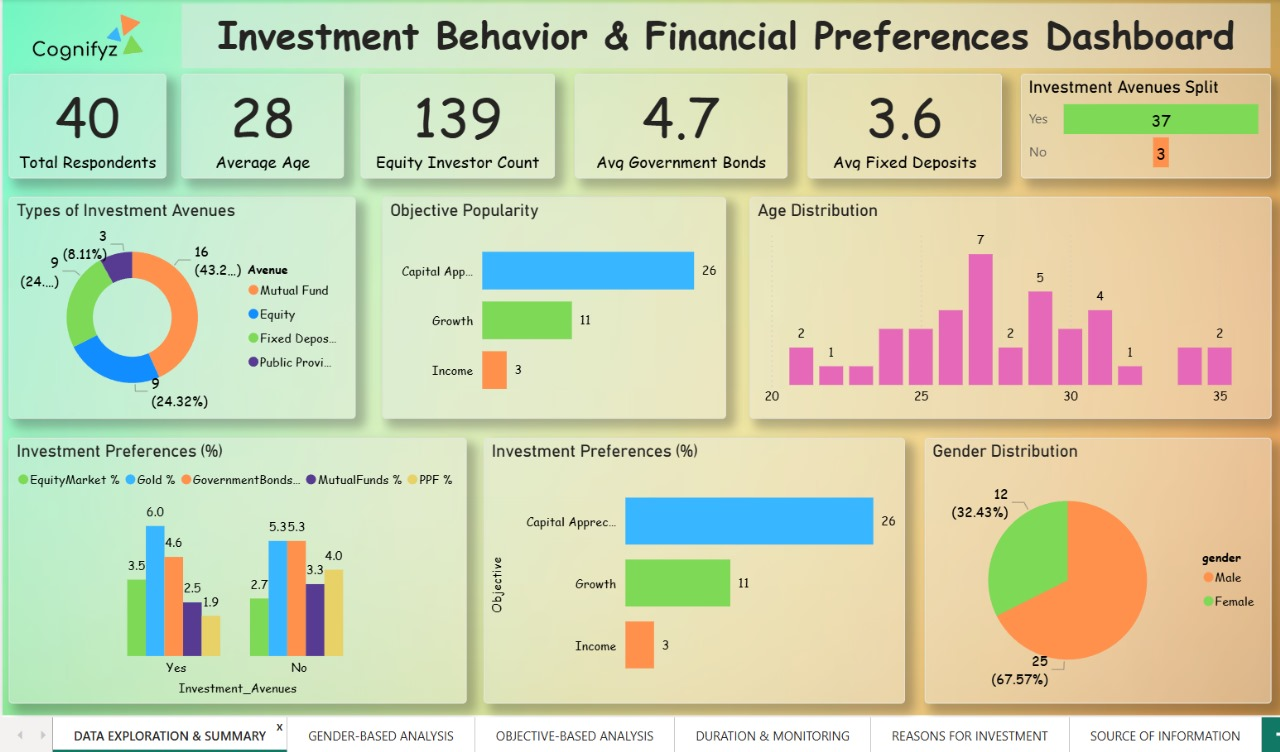

What the dashboard file says about the page in this screenshot:
{"tool":"powerbi","page":{"name":"DATA EXPLORATION & SUMMARY","canvas":[1280,720],"ordinal":0},"visuals":[{"type":"card","fields":{"Values":["Data.Total Respondents"]},"box":[6.1,74.6,157.7,105.2],"z":0},{"type":"funnel","title":"Investment Avenues Split","fields":{"Y":["CountNonNull(Data.Investment_Avenues)"],"Category":["Data.Investment_Avenues"]},"box":[1019.8,74.6,250.7,105.2],"z":1000},{"type":"donutChart","title":"Types of Investment Avenues ","fields":{"Category":["Data.Avenue"],"Y":["CountNonNull(Data.Investment_Avenues)"]},"box":[6.1,198.4,347.3,222.5],"z":2000},{"type":"barChart","title":"Objective Popularity","fields":{"Category":["Data.Objective"],"Y":["CountNonNull(Data.Objective)"]},"box":[380.3,198.4,343.6,222.5],"z":3000},{"type":"card","fields":{"Values":["Data.Average Age"]},"box":[179.7,74.6,162.6,105.2],"z":4000},{"type":"clusteredColumnChart","title":"Investment Preferences (%)","fields":{"Category":["Data.Investment_Avenues"],"Y":["Data.EquityMarket %","Data.Gold %","Data.GovernmentBonds %","Data.MutualFunds %","Data.PPF %"]},"box":[6.1,439,458.5,266.6],"z":5000},{"type":"barChart","title":"Investment Preferences (%)","fields":{"Category":["Data.Objective"],"Y":["CountNonNull(Data.Objective)"]},"box":[481.8,439,421.9,266.6],"z":6000},{"type":"clusteredColumnChart","title":"Age Distribution","fields":{"Category":["Data.age"],"Y":["CountNonNull(Data.age)"]},"box":[748.3,198.4,522.1,222.5],"z":7000},{"type":"pieChart","title":"Gender Distribution","fields":{"Category":["Data.gender"],"Y":["CountNonNull(Data.gender)"]},"box":[923.2,439,347.3,266.6],"z":8000},{"type":"card","fields":{"Values":["Data.Equity Investor Count"]},"box":[358.3,74.6,194.4,105.2],"z":9000},{"type":"card","fields":{"Values":["Avg(Data.Government_Bonds)"]},"box":[573.5,74.6,212.8,105.2],"z":10000},{"type":"card","fields":{"Values":["Avg(Data.Fixed_Deposits)"]},"box":[805.8,74.6,194.4,105.2],"z":11000},{"type":"textbox","box":[179.7,3.7,1090.7,64.8],"z":12000},{"type":"image","box":[7.3,8.6,156.5,59.9],"z":13000}]}

Visuals, with their boxes on the page's 1280x720 design canvas (x1, y1, x2, y2). These are canvas units, not pixel positions in the 1280x752 screenshot, which may show the page scaled, cropped or inside an application window:
card - Data.Total Respondents: bbox=[6, 75, 164, 180]
"Investment Avenues Split" funnel: bbox=[1020, 75, 1270, 180]
"Types of Investment Avenues " donutChart: bbox=[6, 198, 353, 421]
"Objective Popularity" barChart: bbox=[380, 198, 724, 421]
card - Data.Average Age: bbox=[180, 75, 342, 180]
"Investment Preferences (%)" clusteredColumnChart: bbox=[6, 439, 465, 706]
"Investment Preferences (%)" barChart: bbox=[482, 439, 904, 706]
"Age Distribution" clusteredColumnChart: bbox=[748, 198, 1270, 421]
"Gender Distribution" pieChart: bbox=[923, 439, 1270, 706]
card - Data.Equity Investor Count: bbox=[358, 75, 553, 180]
card - Avg(Data.Government_Bonds): bbox=[574, 75, 786, 180]
card - Avg(Data.Fixed_Deposits): bbox=[806, 75, 1000, 180]
textbox: bbox=[180, 4, 1270, 68]
image: bbox=[7, 9, 164, 68]
